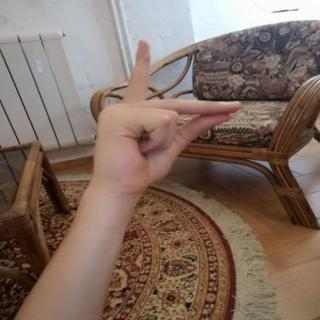TAA: (79, 32, 255, 202)
